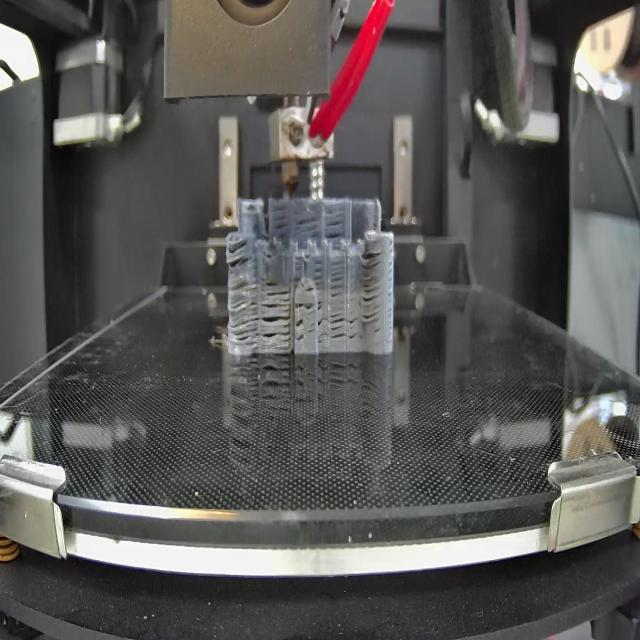cracks: (228, 284, 258, 348), (363, 251, 381, 323), (262, 302, 290, 348), (226, 239, 252, 267), (266, 277, 290, 299), (329, 310, 346, 340), (318, 298, 328, 347), (331, 261, 343, 301), (327, 219, 346, 238), (274, 212, 289, 236), (348, 314, 359, 340), (295, 320, 305, 345), (293, 301, 315, 312), (297, 215, 320, 225), (295, 257, 304, 282), (314, 261, 323, 286), (302, 286, 314, 296)
